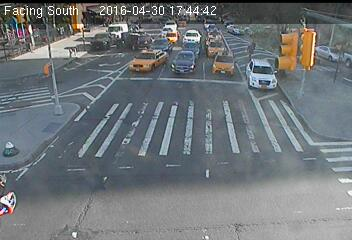neg: (243, 127, 276, 171), (173, 173, 195, 201), (61, 123, 82, 151), (165, 120, 186, 147)
pos: (238, 36, 257, 61)
